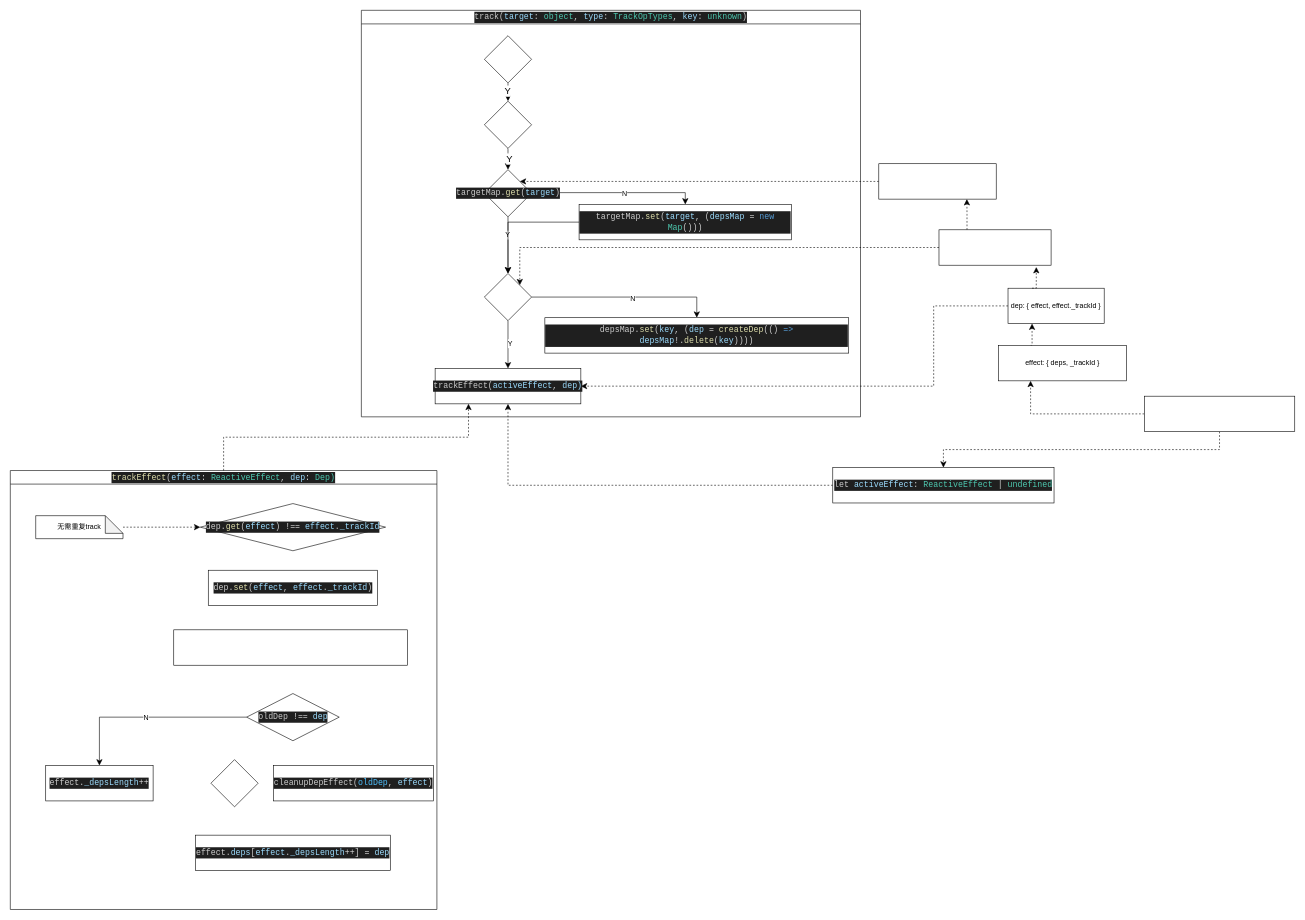
This 1305x920 diagram has some shape labels left out. The shapes that lost their labels are listed below. From the top down, each one's centre as x and y in pixels, then its label:
[508,59]: shouldTrack
[508,124]: activeEffect
[937,181]: targetMap: { target, keyToDepMap}
[994,247]: keyToDepMap: { target.key, dep}
[508,297]: depsMap. get ( key )
[1219,414]: class ReactiveEffect < T = any >
[290,647]: const oldDep = effect . deps [ effect . _depsLength ]
[234,783]: oldDep
